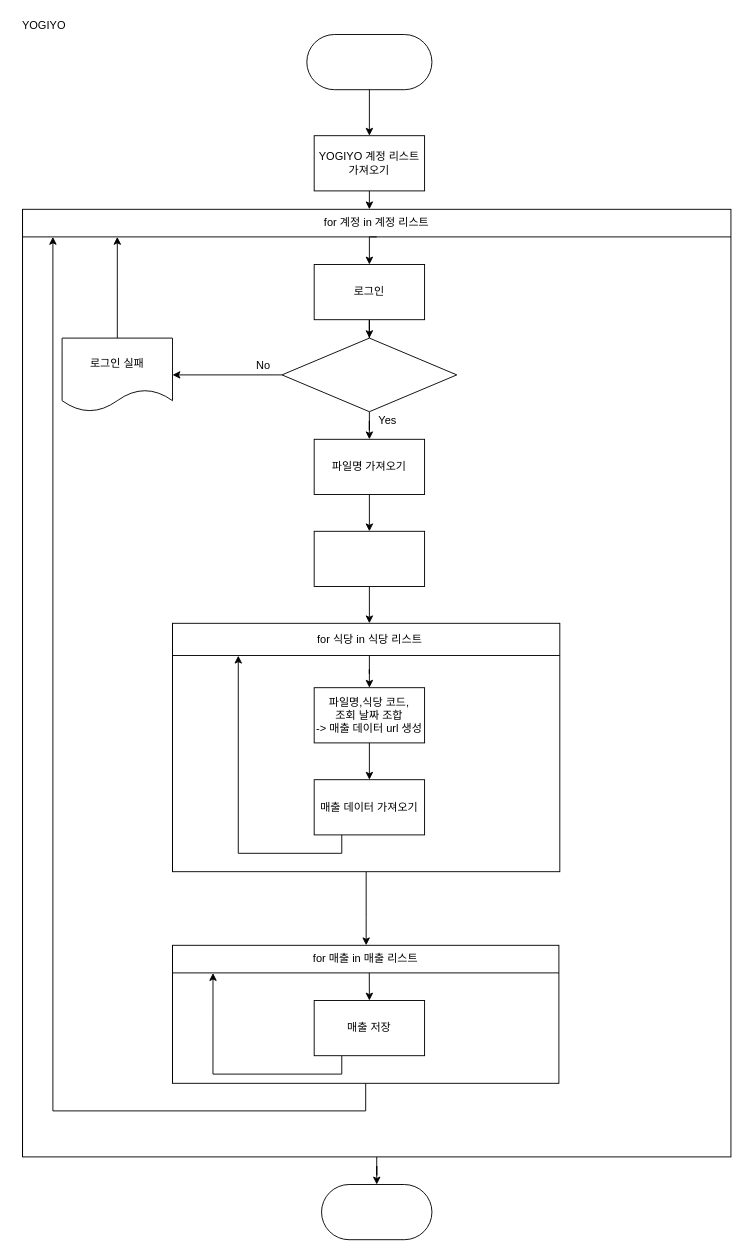
This 747x1256 diagram has some shape labels left out. Here are the shapes that lost their labels. From the top down, the centre of each, then its label:
the point at 369,62: 시작
the point at 369,374: 로그인에 성공했는가?
the point at 369,558: 계정 내 식당 리스트 가져오기
the point at 376,1212: 완료
